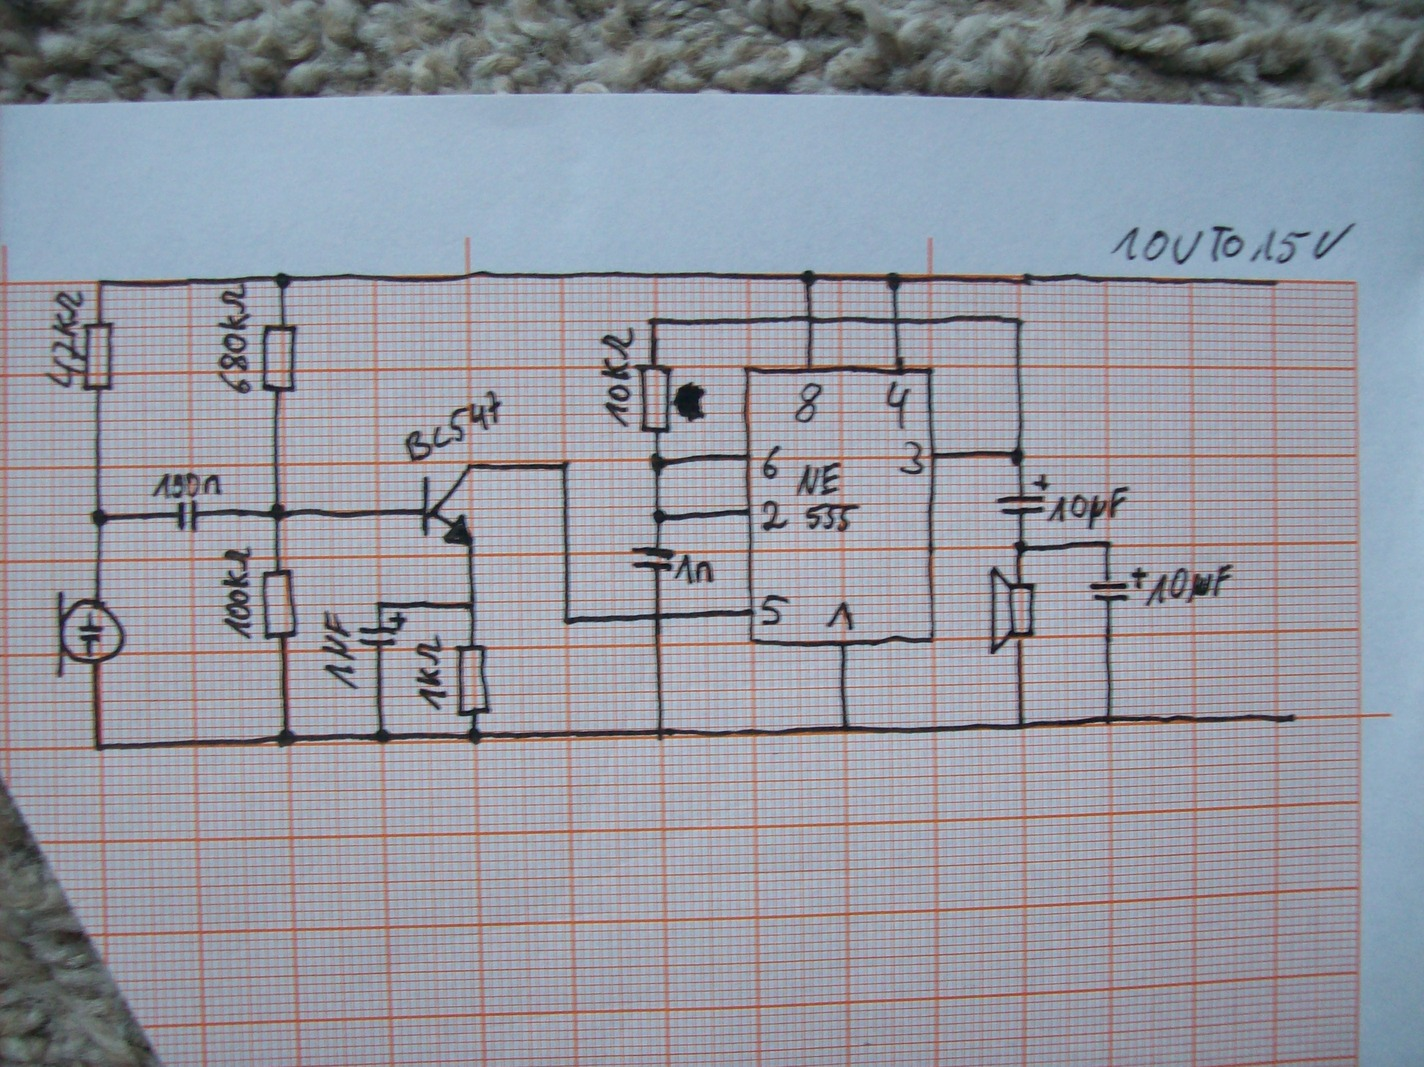capacitor.polarized: (996, 473, 1051, 517), (1089, 567, 1148, 604), (357, 611, 409, 648)
capacitor.unpolarized: (630, 542, 674, 572), (175, 499, 202, 533)
crossover: (800, 310, 820, 328), (649, 607, 667, 627), (888, 312, 906, 330)
integrated_cricuit.ne555: (739, 361, 940, 647)
junction: (89, 505, 111, 528), (648, 452, 668, 476), (277, 727, 297, 750), (269, 501, 288, 523), (372, 729, 393, 748), (466, 726, 485, 746), (884, 271, 903, 291), (1009, 446, 1027, 467), (274, 271, 294, 290), (800, 268, 818, 287), (90, 737, 108, 755), (463, 597, 481, 614), (651, 508, 669, 525), (1013, 539, 1031, 556), (652, 725, 669, 743), (645, 313, 661, 330), (838, 721, 854, 737), (1102, 711, 1117, 729), (1012, 313, 1026, 328), (94, 276, 109, 291), (1013, 718, 1029, 733), (559, 458, 573, 475), (1102, 536, 1116, 551), (561, 614, 573, 628), (373, 600, 387, 610)
microphone: (54, 590, 127, 679)
resistor: (453, 639, 495, 721), (259, 566, 300, 642), (259, 321, 299, 396), (633, 362, 673, 437), (80, 319, 117, 395)
speaker: (988, 566, 1037, 658)
terminal: (1281, 704, 1306, 734), (1263, 271, 1291, 297)
text: (1108, 219, 1357, 269), (404, 390, 503, 461), (794, 461, 860, 532), (44, 287, 84, 391), (216, 284, 253, 397), (1145, 563, 1234, 606), (599, 326, 636, 429), (1048, 485, 1130, 531), (220, 545, 255, 641), (322, 607, 361, 692), (413, 633, 450, 712), (151, 472, 224, 500), (884, 380, 914, 429), (673, 553, 716, 587), (793, 381, 823, 425), (758, 592, 791, 628), (897, 439, 927, 477), (825, 601, 857, 634), (758, 499, 789, 533), (761, 444, 787, 482)
transistor: (419, 463, 477, 549)
